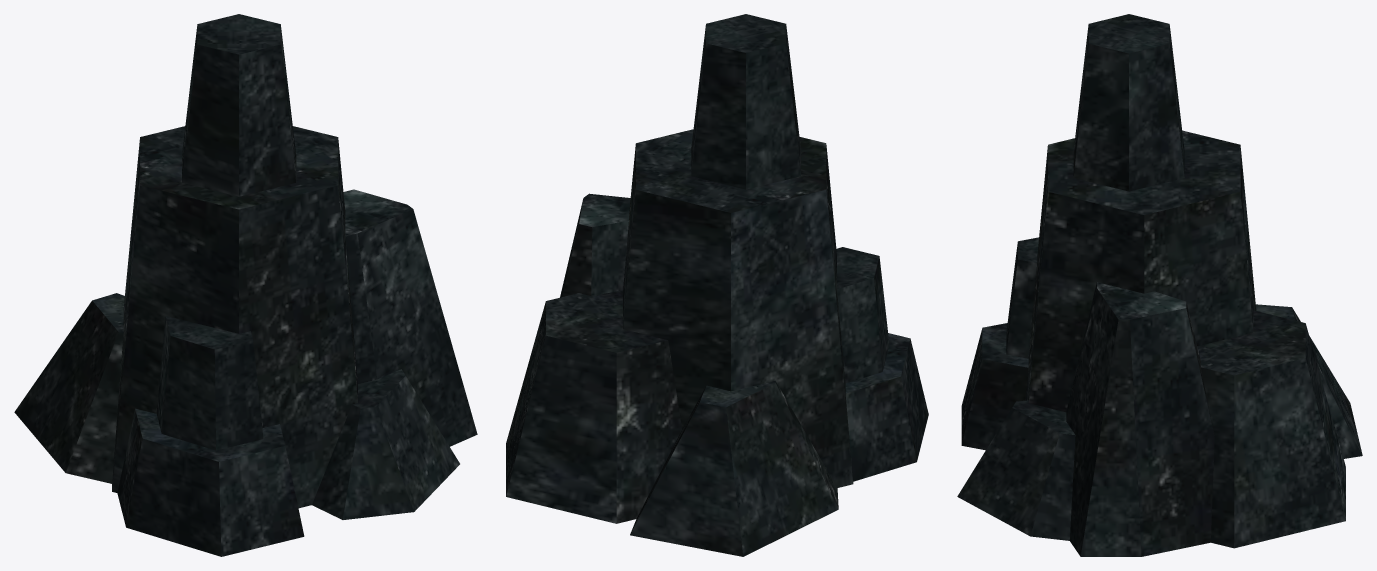
File: rock-tallb.glb
3 views of the same model, side by side, from view 1: azimuth 30°, elevation 25°; view 2: azimuth 150°, elevation 25°; view 3: azimuth 270°, elevation 25° (orthographic). The views are drawn at different scales.
Visible parts, largest first — view 1: rock_tallB; view 2: rock_tallB; view 3: rock_tallB.
Boxes of the visible parts, box(x1,y1,x2,y2) form: rock_tallB: box(14, 14, 477, 556); rock_tallB: box(506, 14, 928, 556); rock_tallB: box(957, 14, 1362, 556).
Size of the model in its own units: 0.7648 by 0.8838 by 0.77.
1 material, 1 textured.
